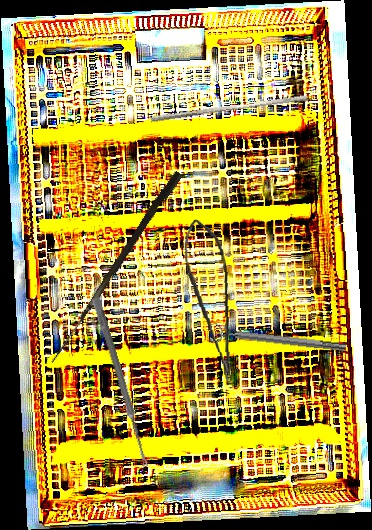Fixation Ring: (209, 320, 347, 360)
Hook Surgical: (51, 168, 183, 369)
Micro Scissor: (179, 215, 239, 387)
Pusher: (150, 89, 308, 129)
Surgical Spoon: (90, 297, 152, 468)
